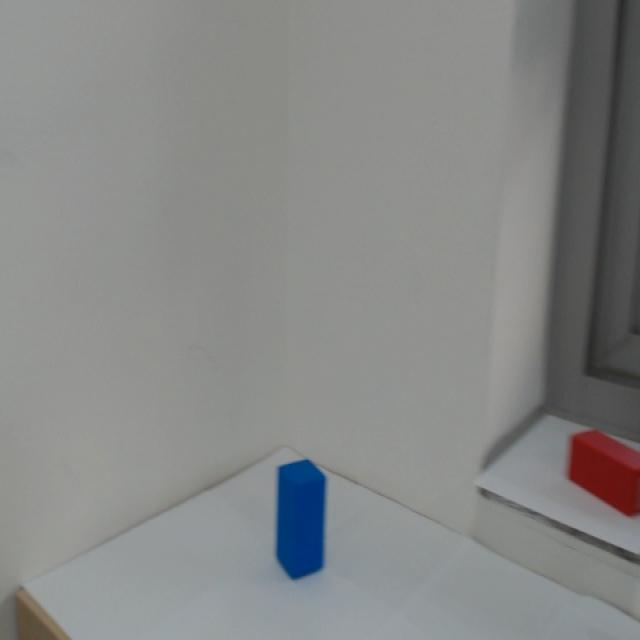cube: (267, 453, 337, 600)
